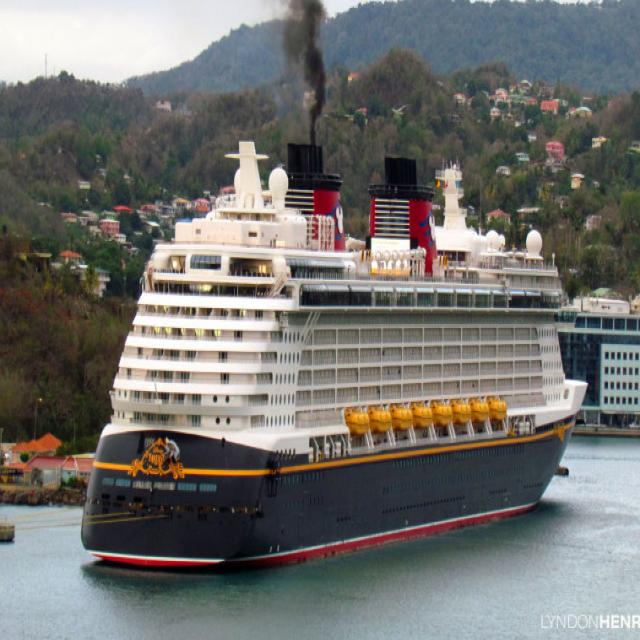cruises: (74, 106, 593, 572)
